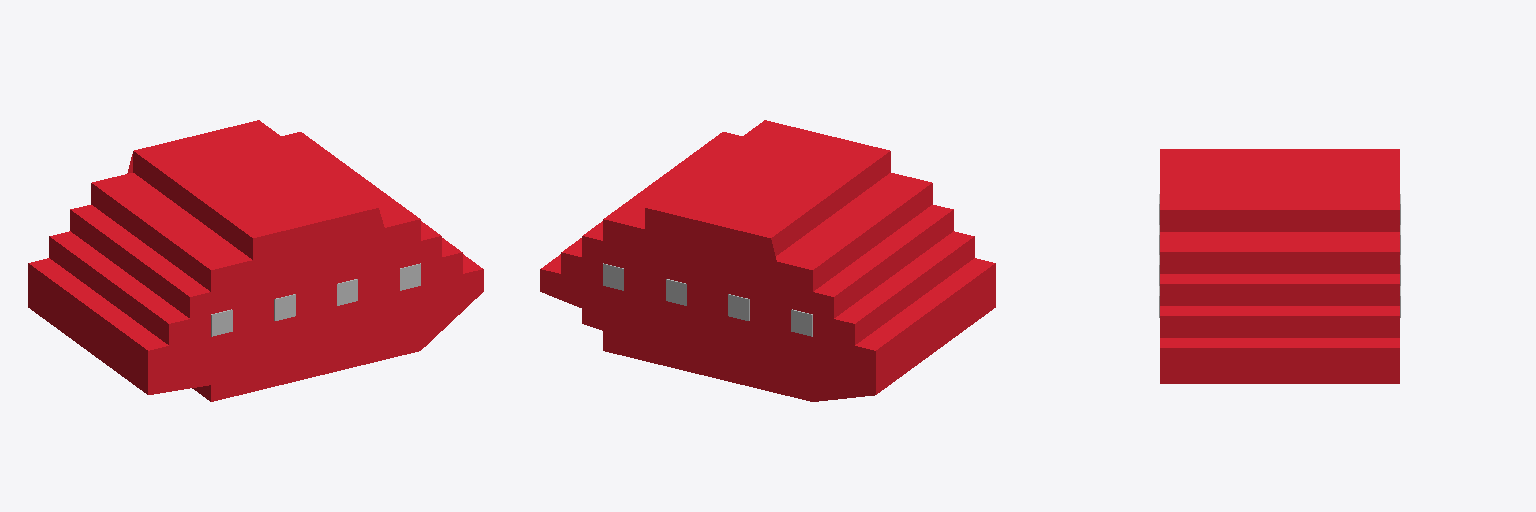
3 views of the same model, side by side, from view 1: azimuth 30°, elevation 25°; view 2: azimuth 150°, elevation 25°; view 3: azimuth 270°, elevation 25° (orthographic).
Parts seen in each view (by area): view 1: Cube.001_Cube.036; view 2: Cube.001_Cube.036; view 3: Cube.001_Cube.036.
Part boxes in pixels (left/top/right/bottom): Cube.001_Cube.036: left=28, top=120, right=483, bottom=401; Cube.001_Cube.036: left=540, top=120, right=995, bottom=401; Cube.001_Cube.036: left=1159, top=149, right=1400, bottom=383.
Size of the model in its own units: 1.6 by 0.7 by 1.
Materials: 5 (1 with a texture image).